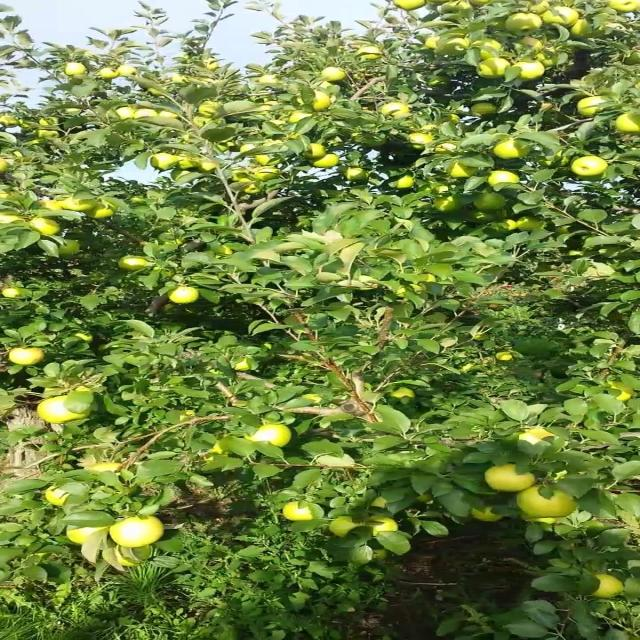apple: (518, 488, 580, 520), (106, 516, 164, 548), (490, 464, 539, 493), (42, 396, 91, 425), (248, 424, 292, 448), (106, 548, 156, 568), (589, 576, 626, 600), (6, 348, 48, 368), (28, 216, 64, 238), (575, 156, 612, 177), (70, 524, 105, 546), (476, 60, 512, 80), (497, 140, 533, 160), (84, 200, 117, 220), (504, 16, 542, 33), (476, 192, 508, 212), (547, 8, 580, 27), (440, 36, 469, 57), (369, 516, 398, 537), (511, 64, 548, 80), (476, 40, 505, 60), (284, 504, 316, 522), (333, 516, 359, 538), (518, 428, 555, 443), (42, 488, 69, 508), (447, 164, 480, 180), (63, 196, 96, 212), (582, 96, 606, 117), (433, 196, 464, 212), (518, 216, 548, 232), (56, 240, 82, 258), (170, 288, 199, 304), (120, 256, 149, 272), (476, 508, 505, 524), (312, 92, 334, 112), (205, 444, 228, 463), (490, 172, 519, 187), (611, 384, 635, 402), (148, 156, 176, 171), (568, 20, 590, 39), (618, 116, 639, 135), (312, 156, 341, 169), (255, 168, 284, 181), (397, 0, 427, 12), (305, 144, 327, 160), (383, 104, 412, 116), (518, 40, 546, 52), (198, 104, 220, 119), (326, 68, 348, 83), (177, 156, 199, 171), (540, 52, 560, 68), (447, 0, 471, 13), (191, 116, 215, 129), (348, 168, 370, 182), (390, 388, 418, 399), (198, 160, 220, 174), (476, 104, 500, 116), (42, 200, 64, 213), (255, 156, 281, 167), (92, 464, 123, 473), (63, 64, 85, 76), (134, 108, 156, 120), (99, 68, 121, 80), (362, 48, 384, 60), (433, 144, 457, 155), (426, 36, 443, 51), (611, 4, 639, 13), (397, 176, 418, 188), (412, 136, 434, 147), (241, 184, 263, 195), (70, 332, 92, 343), (291, 112, 311, 124), (234, 360, 252, 372), (234, 172, 252, 184), (532, 4, 551, 15), (6, 288, 23, 300), (625, 52, 639, 66), (376, 548, 391, 561), (120, 108, 135, 120), (504, 220, 519, 232), (419, 492, 434, 504), (284, 132, 304, 141), (262, 76, 281, 85), (369, 500, 389, 508), (6, 116, 20, 127), (497, 352, 514, 361), (305, 396, 322, 405), (70, 76, 85, 86), (163, 112, 180, 120), (6, 216, 23, 224), (148, 88, 165, 96), (120, 68, 135, 77), (461, 364, 475, 373), (205, 64, 220, 72), (220, 248, 235, 256), (447, 116, 462, 124), (42, 132, 59, 139), (42, 120, 55, 128), (177, 76, 188, 83), (20, 124, 30, 129), (241, 148, 251, 152), (477, 4, 484, 7)
